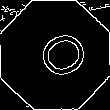O_SW: (23, 25, 87, 85)
